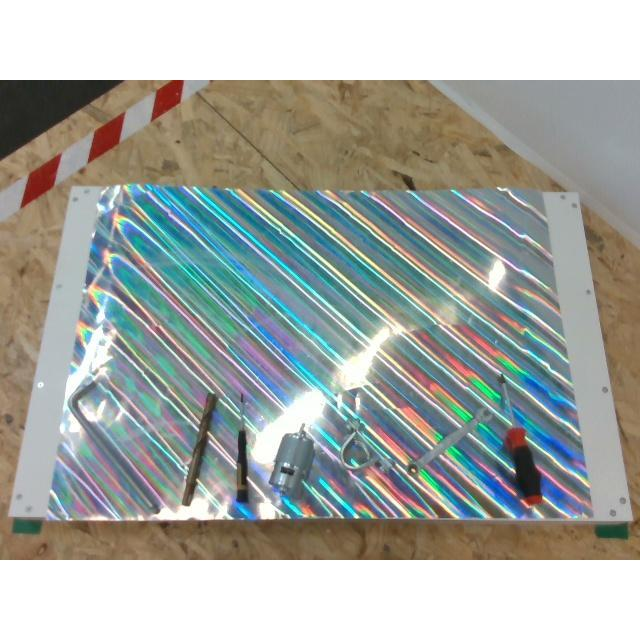AllenKey: (67, 378, 159, 518)
Drill: (181, 392, 217, 506)
Housing: (338, 416, 394, 476)
Motor2: (270, 424, 314, 496)
Wrench: (404, 408, 492, 472)
